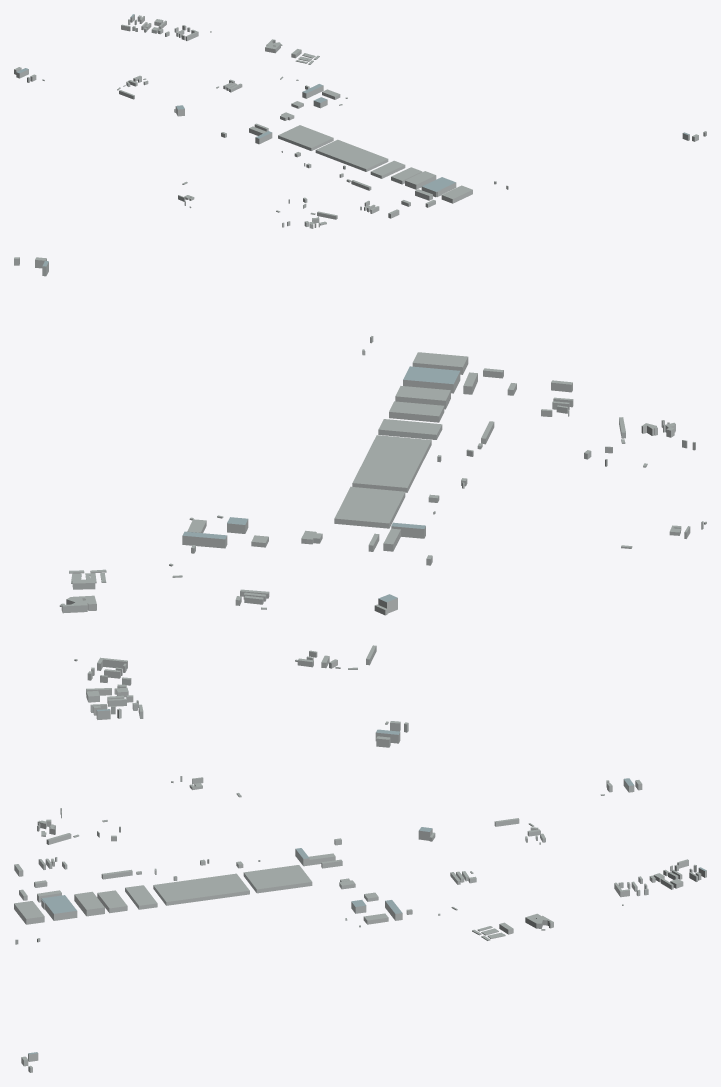
The picture shows the model from 3 angles, top to bottom: view 1: azimuth 30°, elevation 25°; view 2: azimuth 150°, elevation 25°; view 3: azimuth 270°, elevation 25°; orthographic projection. The views are drawn at different scales.
Parts seen in each view (by area): view 1: 上海全域建筑分块 · mapped building neighborhood; view 2: 上海全域建筑分块 · mapped building neighborhood; view 3: 上海全域建筑分块 · mapped building neighborhood.
Part boxes in pixels (left/top/right/bottom): 上海全域建筑分块 · mapped building neighborhood: left=14, top=14, right=706, bottom=228; 上海全域建筑分块 · mapped building neighborhood: left=14, top=257, right=706, bottom=747; 上海全域建筑分块 · mapped building neighborhood: left=14, top=776, right=706, bottom=1072.
Size of the model in its own units: 1705 by 24.19 by 1714.
